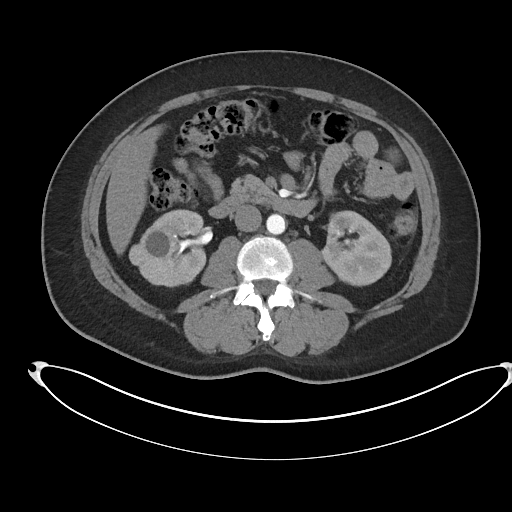Lesion: (129, 243, 146, 266)
